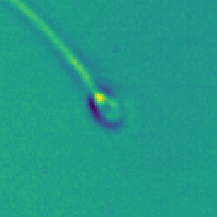normal: (4, 1, 99, 91)
